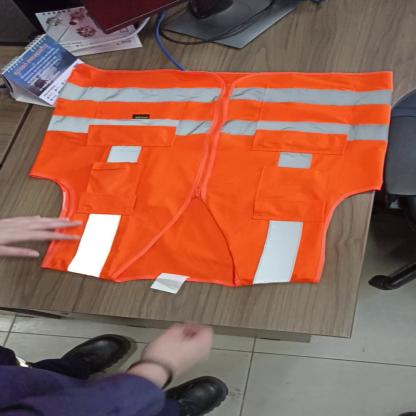colete: (23, 54, 385, 289)
